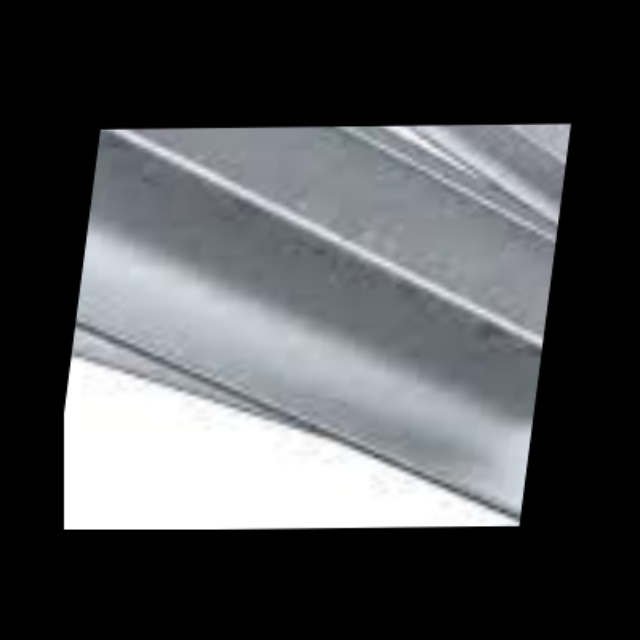Angle: (78, 129, 173, 302)
